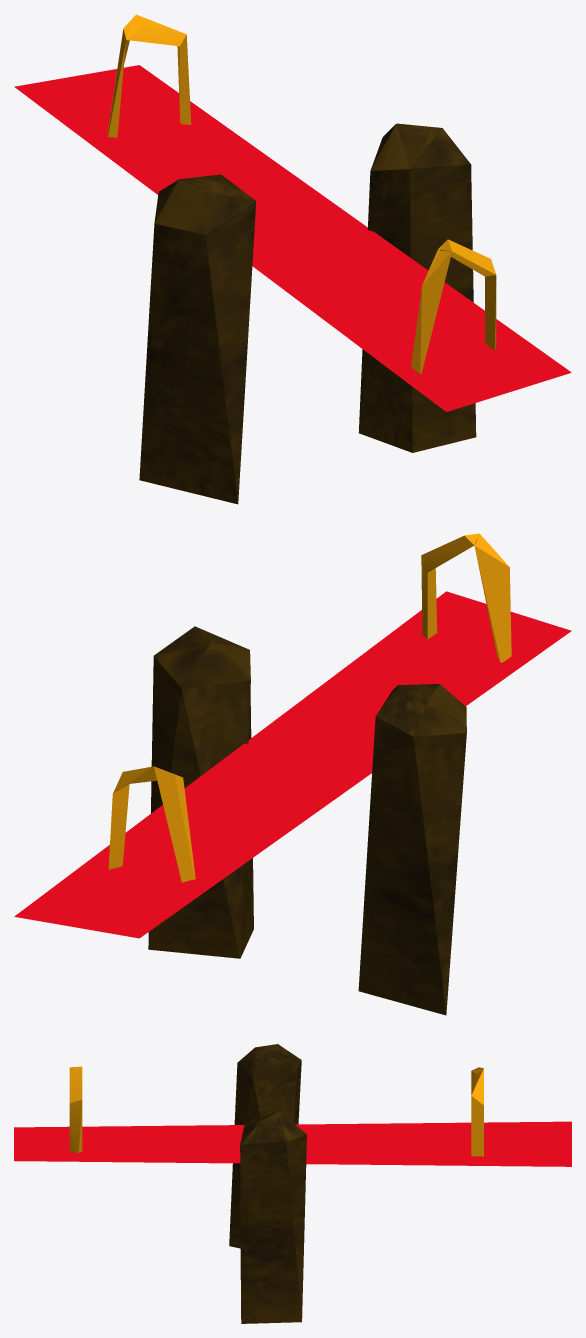
The model's file is GangorraVermelhaLOD1.fbx.
The picture shows the model from 3 angles, top to bottom: view 1: azimuth 30°, elevation 25°; view 2: azimuth 150°, elevation 25°; view 3: azimuth 270°, elevation 25°; orthographic projection. The views are drawn at different scales.
Visible parts, largest first — view 1: GangorraVermelha.LOD1; view 2: GangorraVermelha.LOD1; view 3: GangorraVermelha.LOD1.
Part boxes in pixels (x1,y1,x2,y2): GangorraVermelha.LOD1: (14, 14, 571, 504); GangorraVermelha.LOD1: (14, 533, 571, 1015); GangorraVermelha.LOD1: (14, 1044, 571, 1323).
Bounding box in the file's own units: 62.46 × 64.53 × 156.
